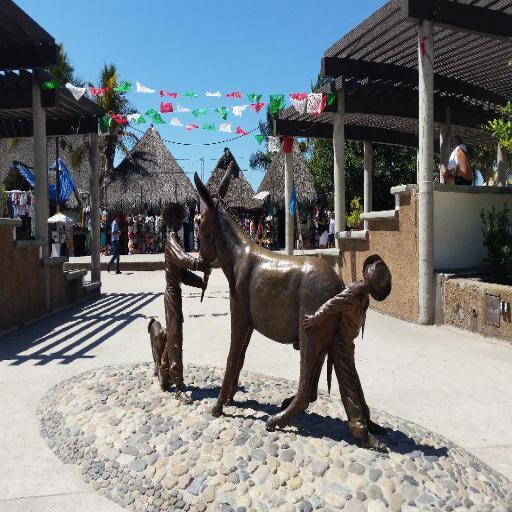horse: (192, 158, 346, 435)
